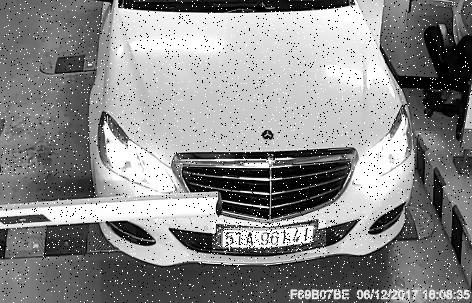License-plate: (213, 221, 327, 254)
